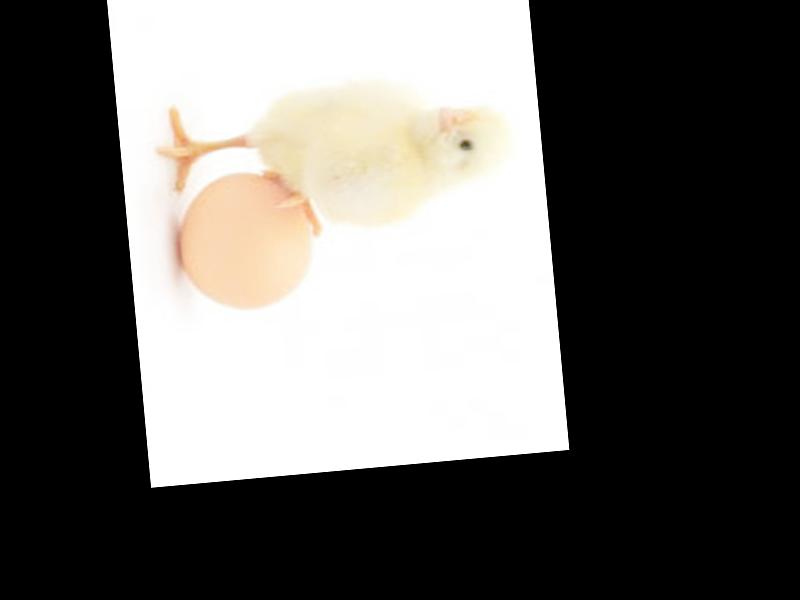Eggs: (174, 164, 324, 316)
